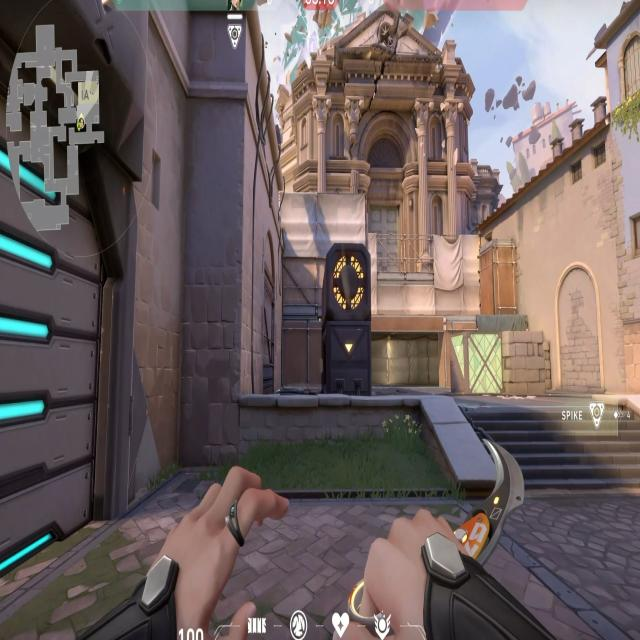A_Door: (0, 0, 137, 569)
A_Heaven_Box: (478, 233, 519, 318)
A_Heaven_Wall: (279, 189, 368, 325)
A_Hell: (370, 316, 449, 394)
A_Site_Box: (451, 333, 545, 401)
